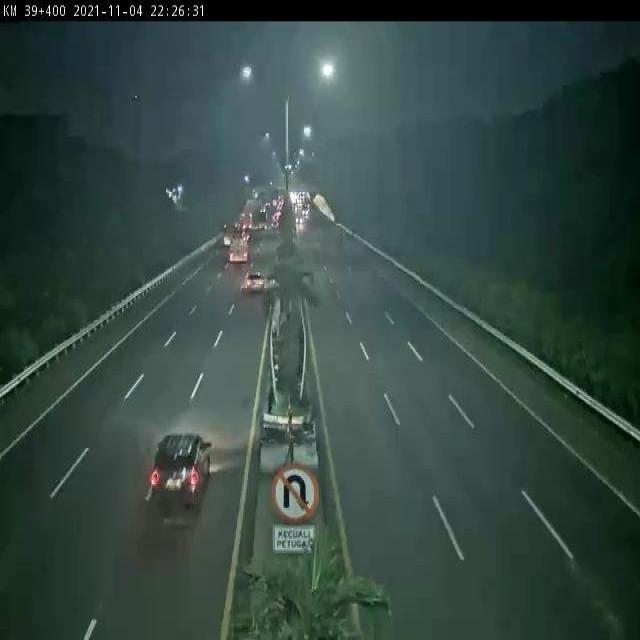bus-l-: (222, 218, 242, 246)
car: (133, 401, 226, 544), (243, 268, 273, 296)
truck-xl-: (219, 236, 260, 265)
